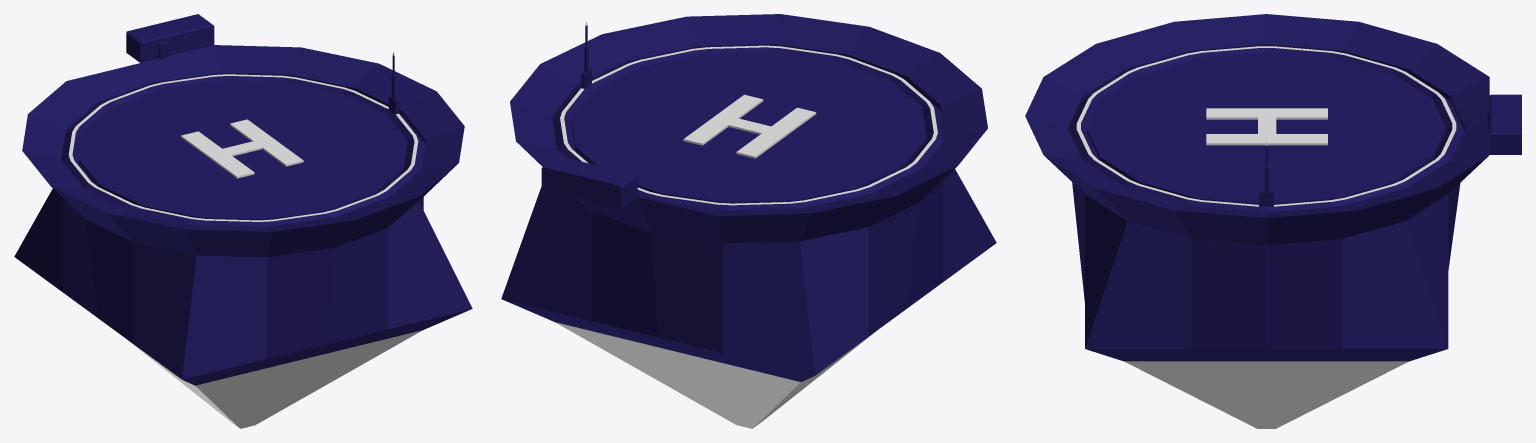
File: Area3.fbx
The picture shows the model from 3 angles, left to right: view 1: azimuth 30°, elevation 25°; view 2: azimuth 150°, elevation 25°; view 3: azimuth 270°, elevation 25°; orthographic projection. The views are drawn at different scales.
Parts seen in each view (by area): view 1: Cylinder; view 2: Cylinder; view 3: Cylinder.
Boxes of the visible parts, left/top/right/bottom form: Cylinder: left=14, top=14, right=472, bottom=428; Cylinder: left=501, top=14, right=996, bottom=428; Cylinder: left=1025, top=14, right=1521, bottom=428.
Bounding box in the file's own units: 1120 × 928 × 1152.
